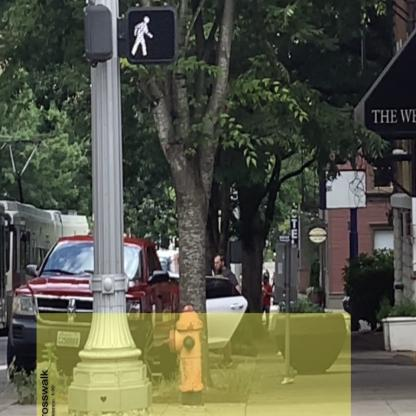Walk: (127, 10, 177, 60)
